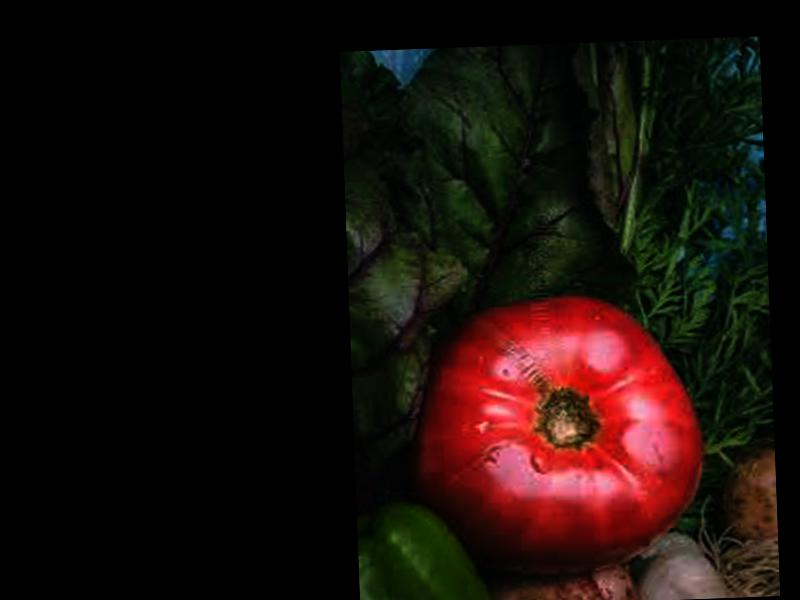Tomato: (401, 291, 707, 583)
